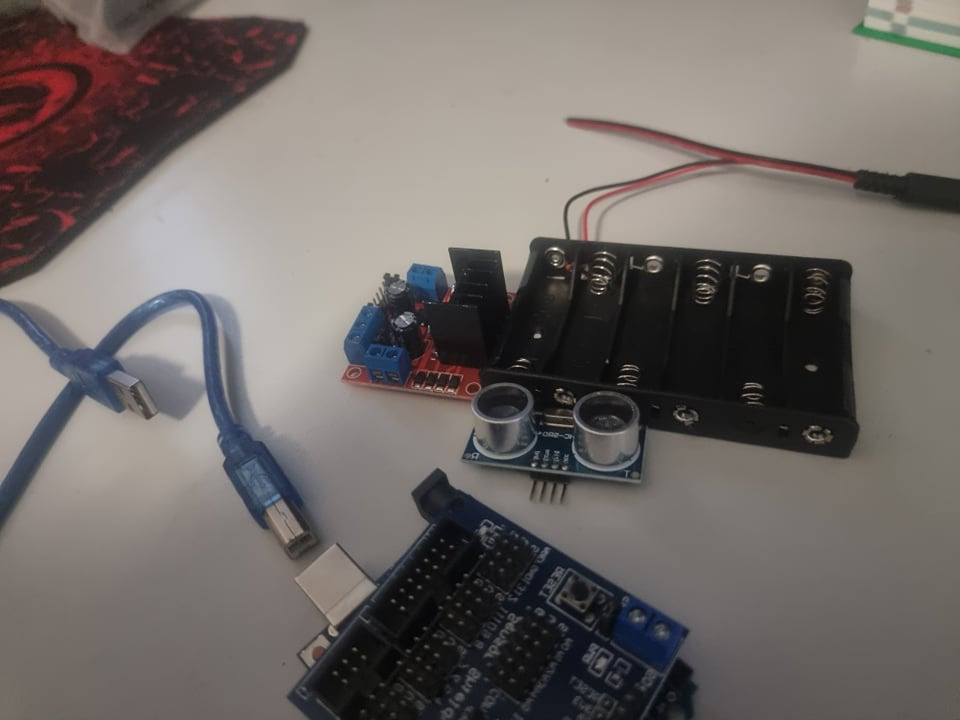5V EXPANSION: (367, 532, 694, 720)
BATTERY BOX: (511, 236, 865, 446)
MOTOR: (329, 244, 507, 400)
SENSOR: (461, 389, 650, 481)
